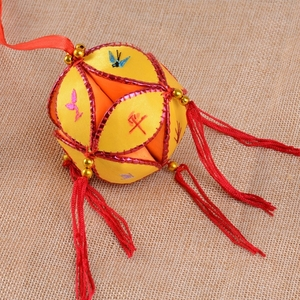xiuqiu: (46, 43, 189, 186)
